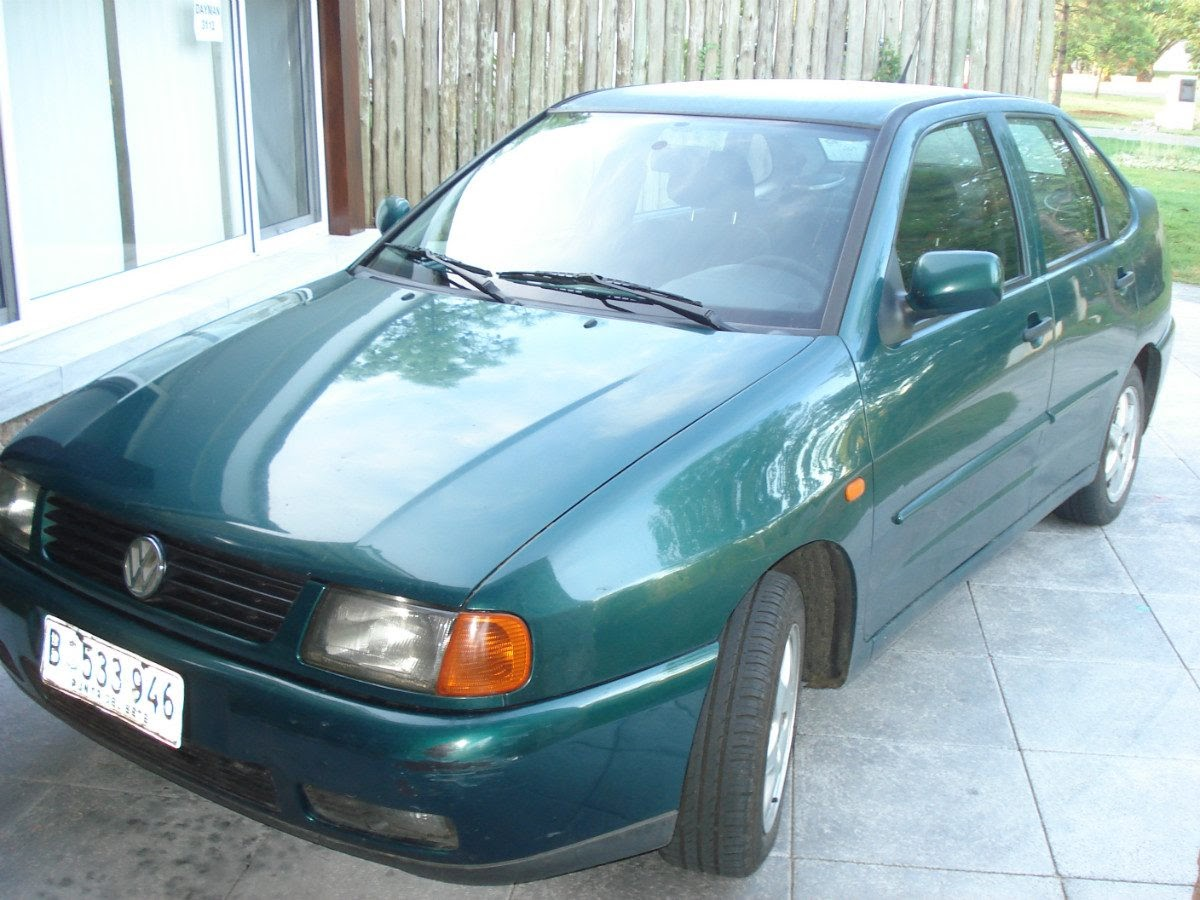car: (0, 53, 1118, 882)
